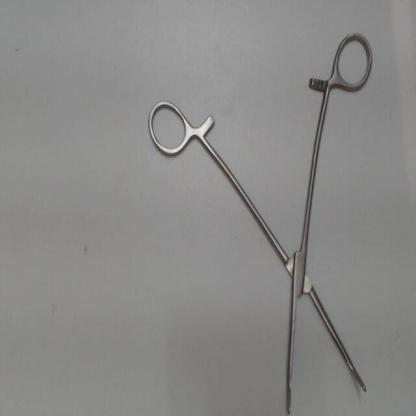Lahey Forceps: (136, 25, 379, 414)
